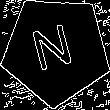N_S: (31, 20, 81, 80)
